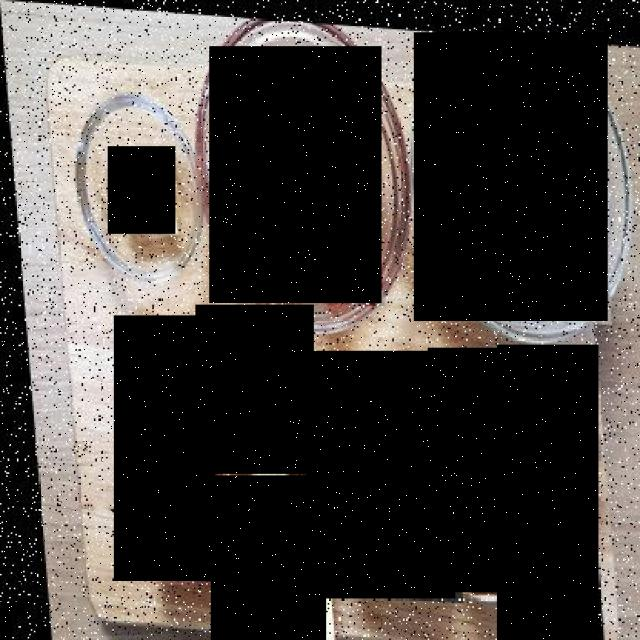Beef: (210, 46, 381, 303)
Butter: (109, 146, 176, 234)
Carrot: (113, 316, 216, 581)
Milk: (414, 32, 608, 320)
Mushroom: (497, 345, 598, 640), (427, 348, 511, 592)
Onion: (195, 304, 314, 473), (211, 475, 326, 640)
Potato: (306, 351, 456, 598)
